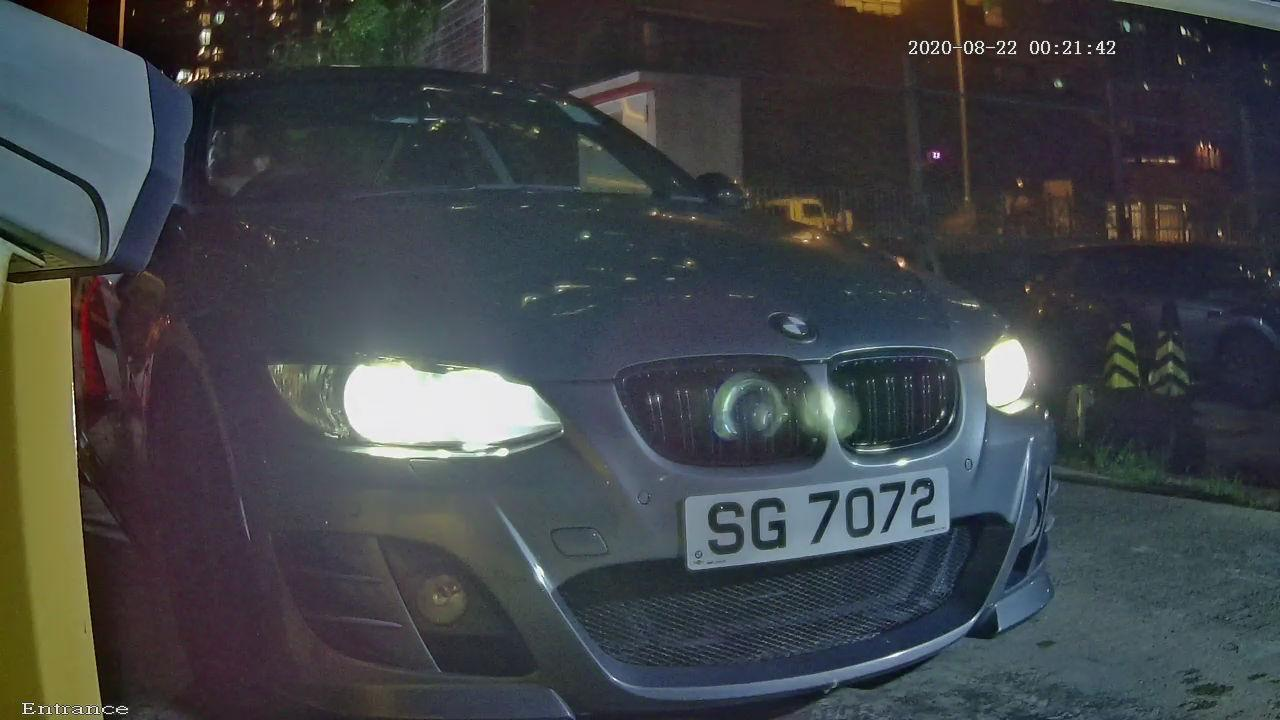Car: (92, 7, 1138, 717)
License Plate: (655, 440, 976, 587)
